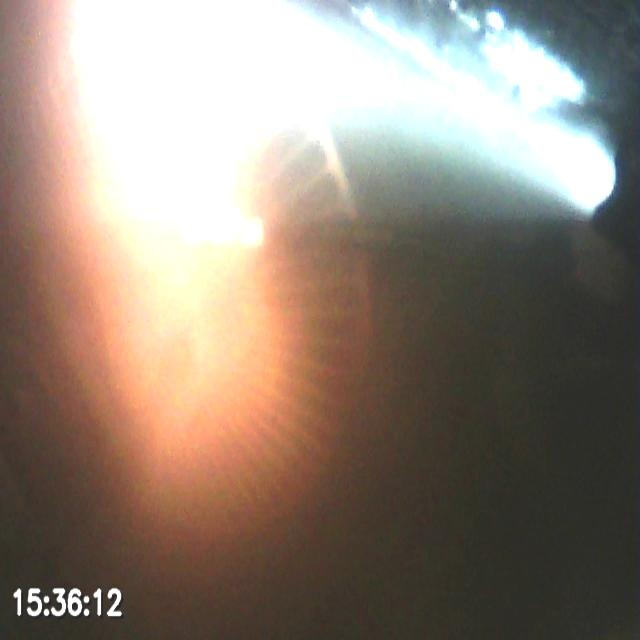white-dots: (178, 209, 266, 248)
